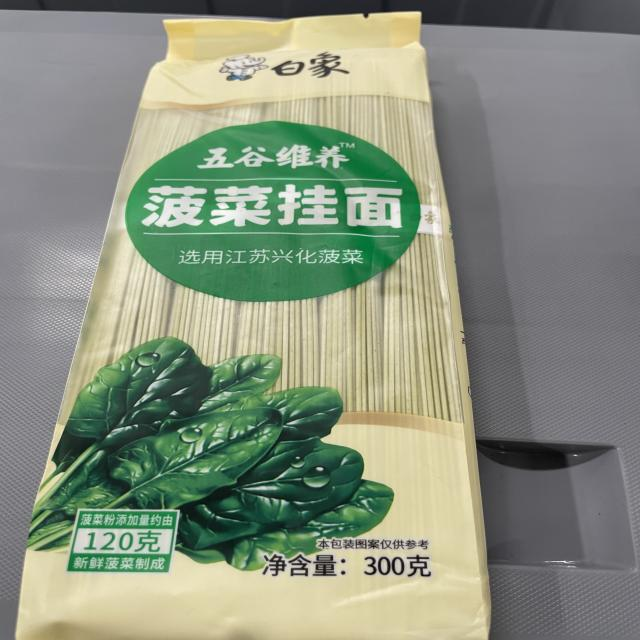object_name: (97, 21, 462, 640)
